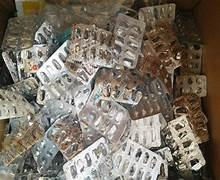pill_Strip: (79, 91, 129, 145), (163, 115, 205, 170), (113, 139, 167, 179), (123, 78, 172, 120), (67, 24, 114, 66), (2, 116, 43, 164), (137, 40, 173, 94), (63, 137, 109, 179), (146, 21, 182, 72), (173, 94, 208, 143), (46, 115, 84, 160), (114, 13, 144, 68), (95, 69, 141, 104), (36, 40, 68, 83), (1, 15, 39, 50), (130, 113, 166, 148), (44, 71, 76, 103), (40, 99, 75, 128), (95, 82, 141, 104), (138, 3, 175, 29), (0, 90, 33, 118), (31, 138, 58, 171), (175, 11, 202, 43), (71, 24, 111, 44), (3, 77, 38, 98), (65, 62, 98, 84), (17, 47, 40, 78), (67, 39, 97, 62), (180, 43, 202, 74), (175, 75, 206, 96), (88, 44, 116, 67), (80, 121, 101, 146), (74, 84, 91, 113), (2, 52, 18, 82), (34, 21, 53, 43), (156, 147, 173, 165), (36, 85, 52, 104), (33, 44, 49, 62)
